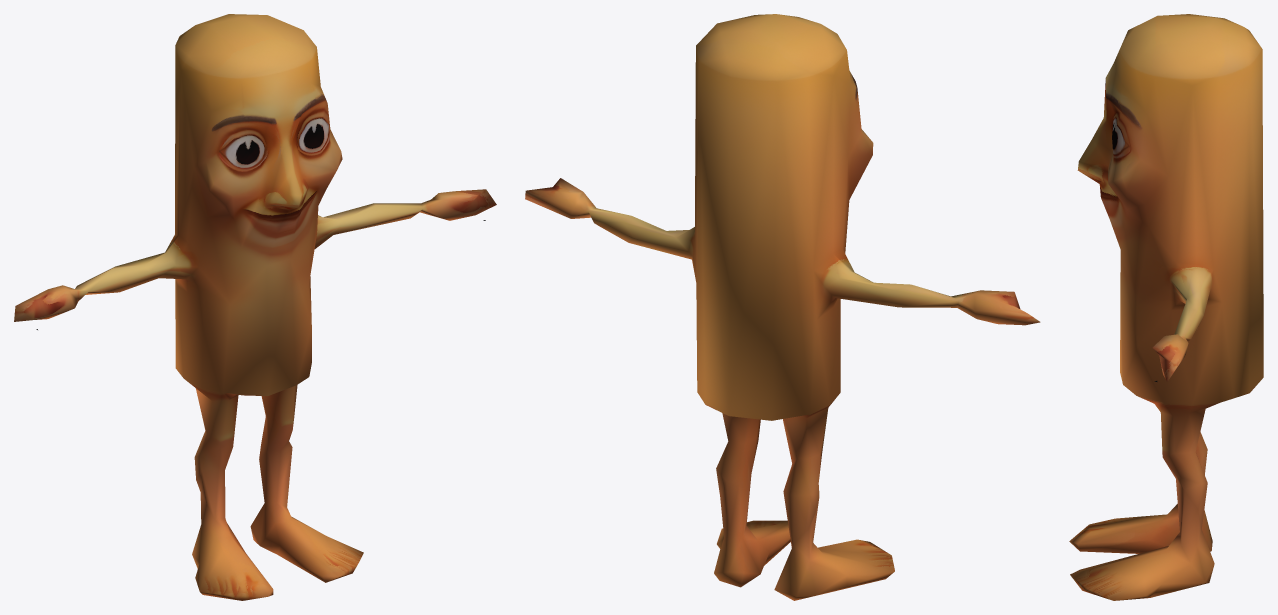
File: StoreTungTung-tpose-game-500.glb
3 views of the same model, side by side, from view 1: azimuth 30°, elevation 25°; view 2: azimuth 150°, elevation 25°; view 3: azimuth 270°, elevation 25° (orthographic). The views are drawn at different scales.
Visible parts, largest first — view 1: material; view 2: material; view 3: material.
Boxes of the visible parts, <box> form: material: <box>14,14,496,600</box>; material: <box>525,14,1040,600</box>; material: <box>1069,14,1263,600</box>.
Bounding box in the file's own units: 1.08 × 1.13 × 0.366.
1 material, 1 textured.
